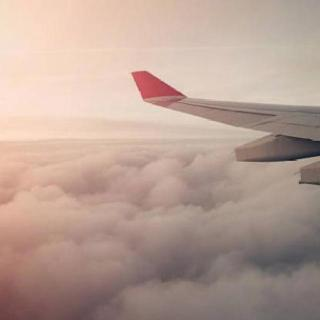Altocumulus: (1, 130, 319, 320)
